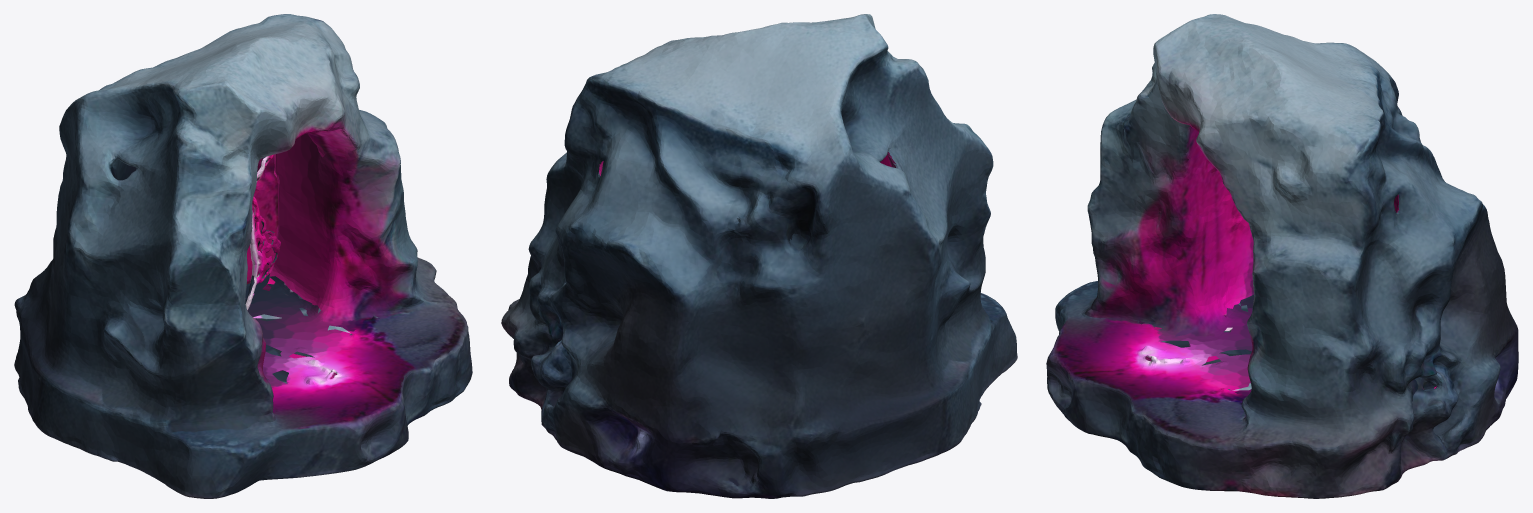
The model's file is island-shelf-generated-2026-04-19T16-26-10-210Z.glb.
3 views of the same model, side by side, from view 1: azimuth 30°, elevation 25°; view 2: azimuth 150°, elevation 25°; view 3: azimuth 270°, elevation 25° (orthographic). The views are drawn at different scales.
Visible parts, largest first — view 1: temp_mesh.ply; view 2: temp_mesh.ply; view 3: temp_mesh.ply.
Boxes of the visible parts, x1,y1,x2,y2 form: temp_mesh.ply: [14, 14, 472, 498]; temp_mesh.ply: [501, 14, 1017, 498]; temp_mesh.ply: [1046, 14, 1518, 498].
Size of the model in its own units: 1.97 by 1.61 by 1.97.
1 material, 1 textured.
